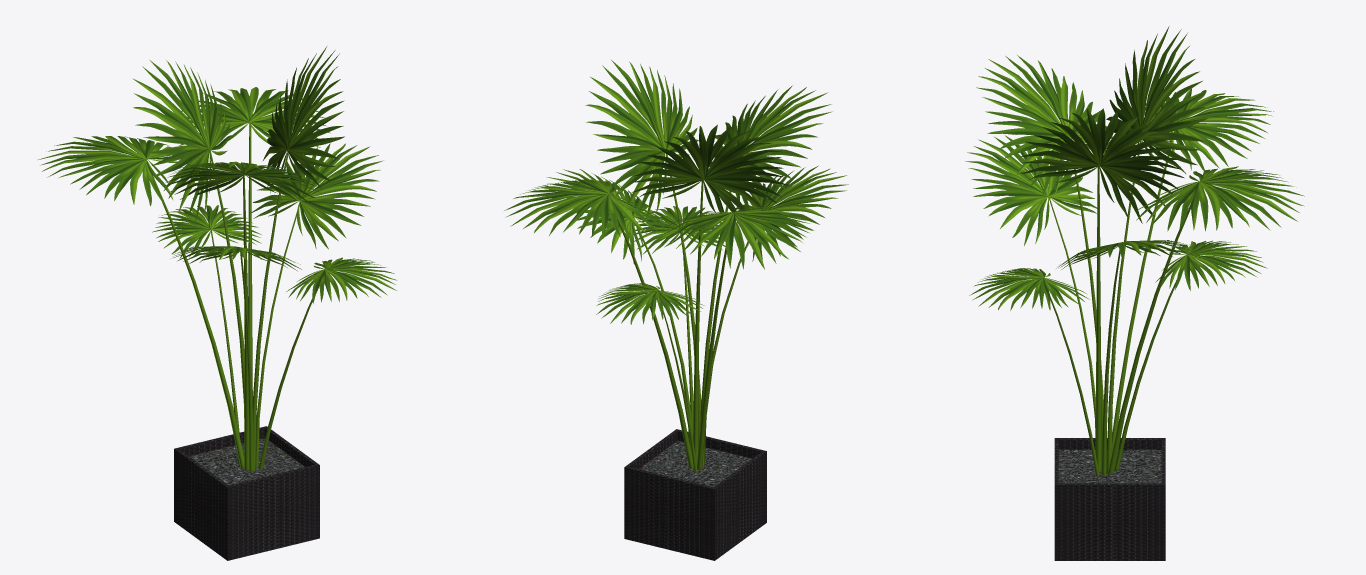
The model's file is plant2.FBX.
3 renders of one model, left to right at view 1: azimuth 30°, elevation 25°; view 2: azimuth 150°, elevation 25°; view 3: azimuth 270°, elevation 25°, orthographic. The views are drawn at different scales.
Parts seen in each view (by area): view 1: plant2; view 2: plant2; view 3: plant2.
Boxes of the visible parts, x1,y1,x2,y2 form: plant2: [38, 46, 396, 560]; plant2: [504, 60, 848, 560]; plant2: [965, 26, 1304, 560].
Bounding box in the file's own units: 39.35 × 39.45 × 49.65.
